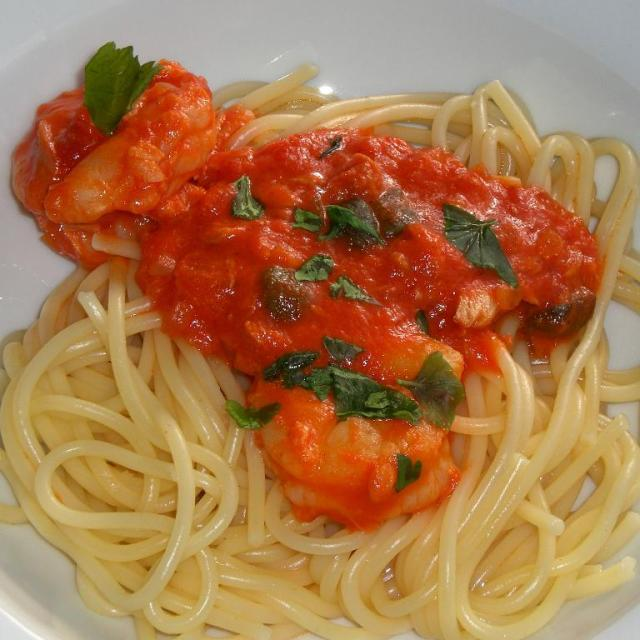Pasta: (0, 61, 638, 638)
